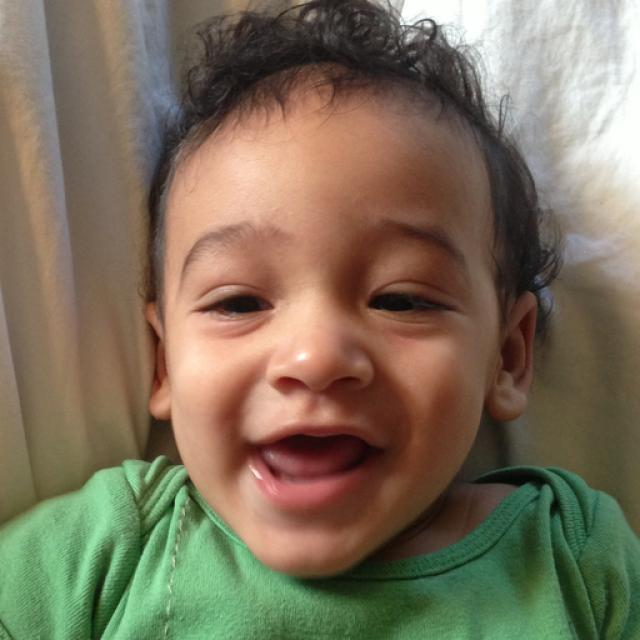surprise: (163, 64, 492, 576)
